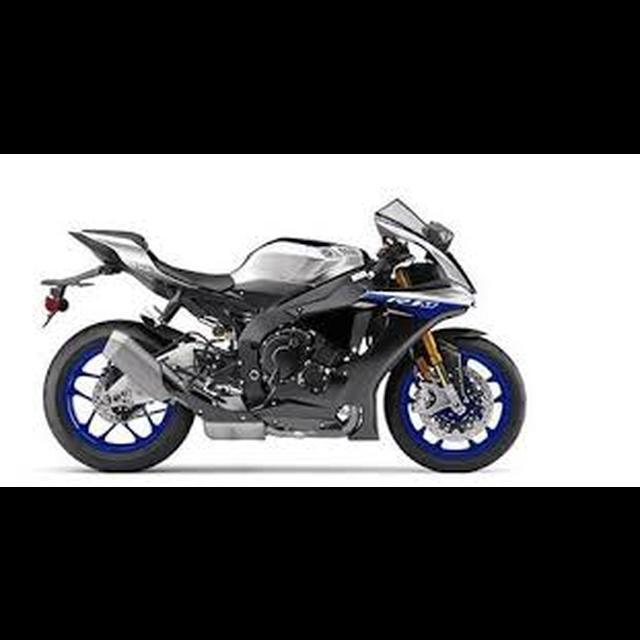motorcycle: (37, 187, 532, 475)
